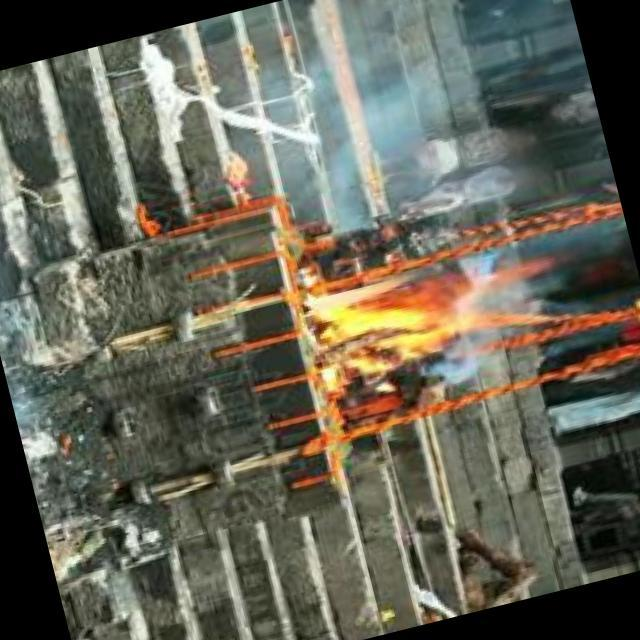Fire: (286, 216, 548, 398)
